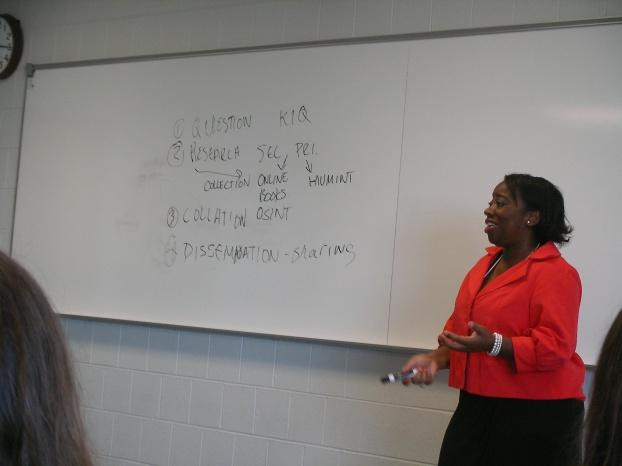Whiteboard: (6, 14, 621, 371)
